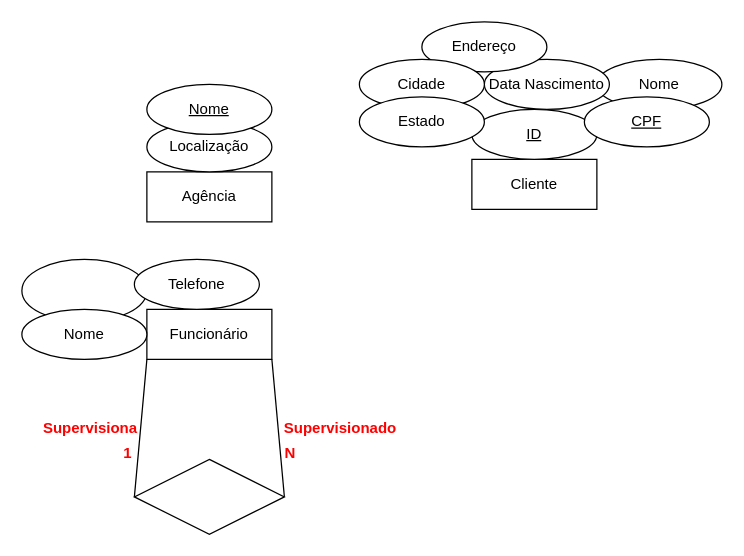
Image size: 744x556. Some labels were removed from this diagram. Here are the shapes that lost their labels. From the top down, the centre of each, then its label:
the point at 84,290: Número Funcional
the point at 208,496: Supervisor
